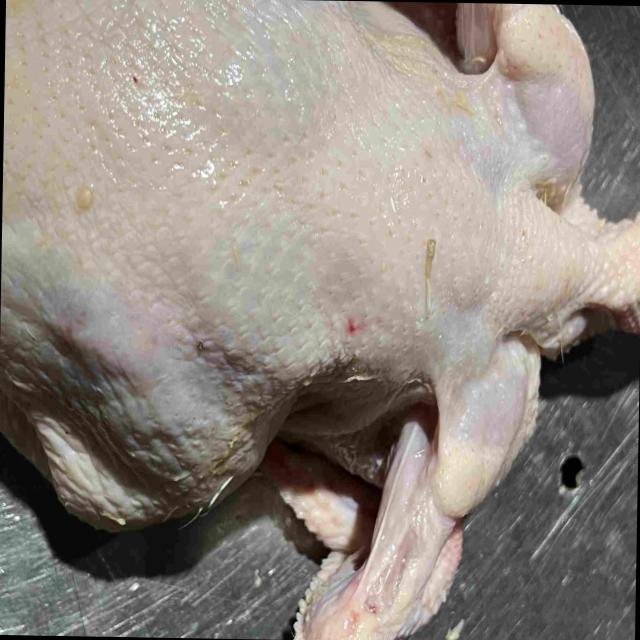back: (1, 0, 503, 372)
leg: (0, 250, 296, 529)
neck: (507, 211, 640, 343)
wing: (275, 376, 542, 640), (459, 2, 597, 199)
